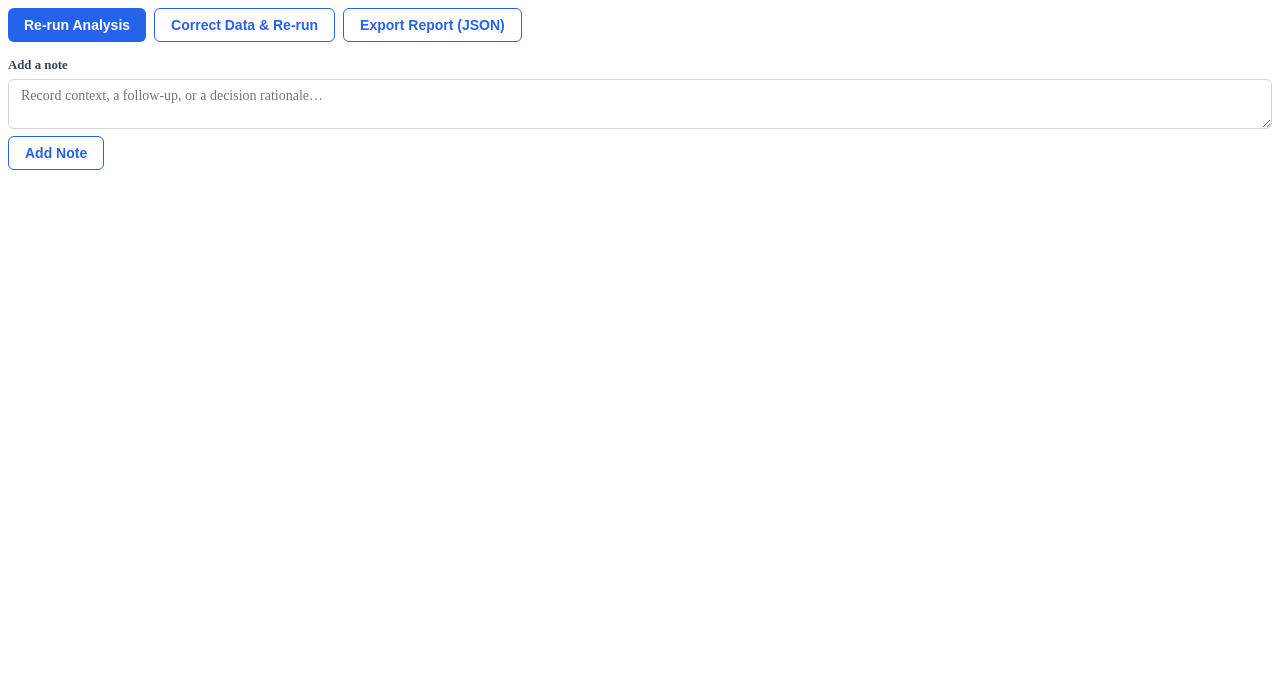
it: OperatorActions › correct-and-re-run sends only changed fields
Step 1. Click the button with test id "toggle-correct-btn" → coordinates (245, 25), box [154,8,335,42]
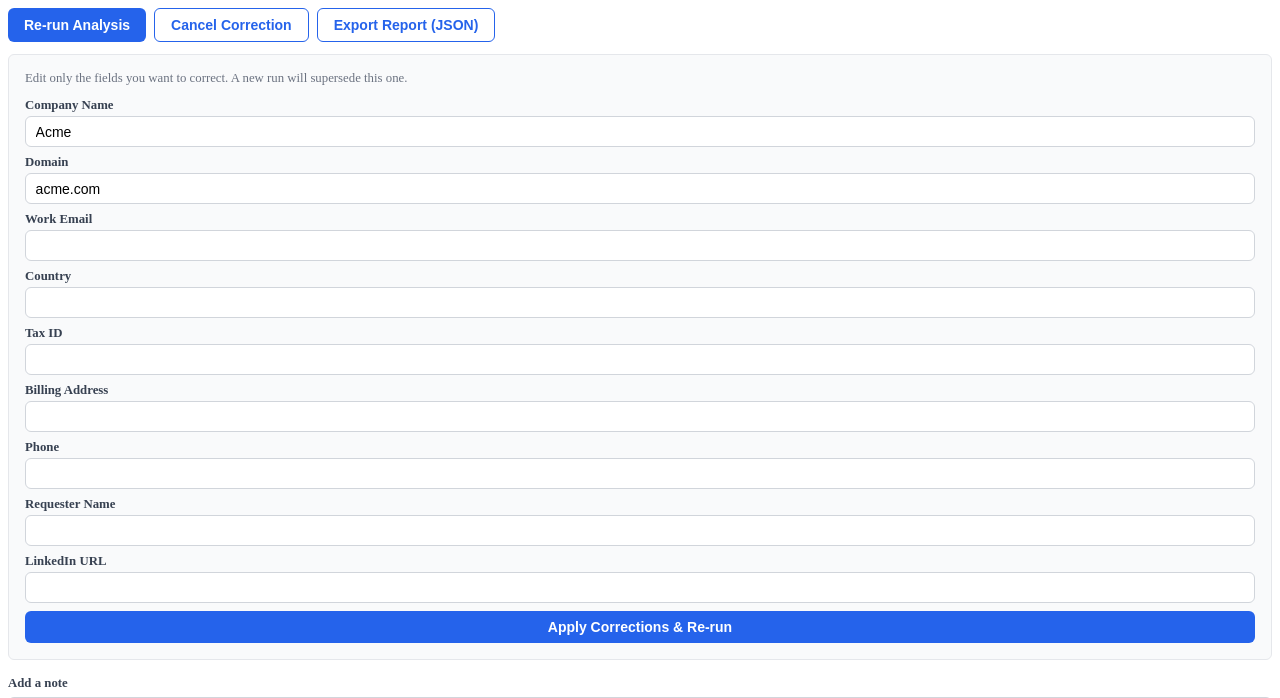
Step 2. Replace the text in the field with test id "correct-input-domain" with "fixed.com" → coordinates (640, 189), box [25,173,1255,204]
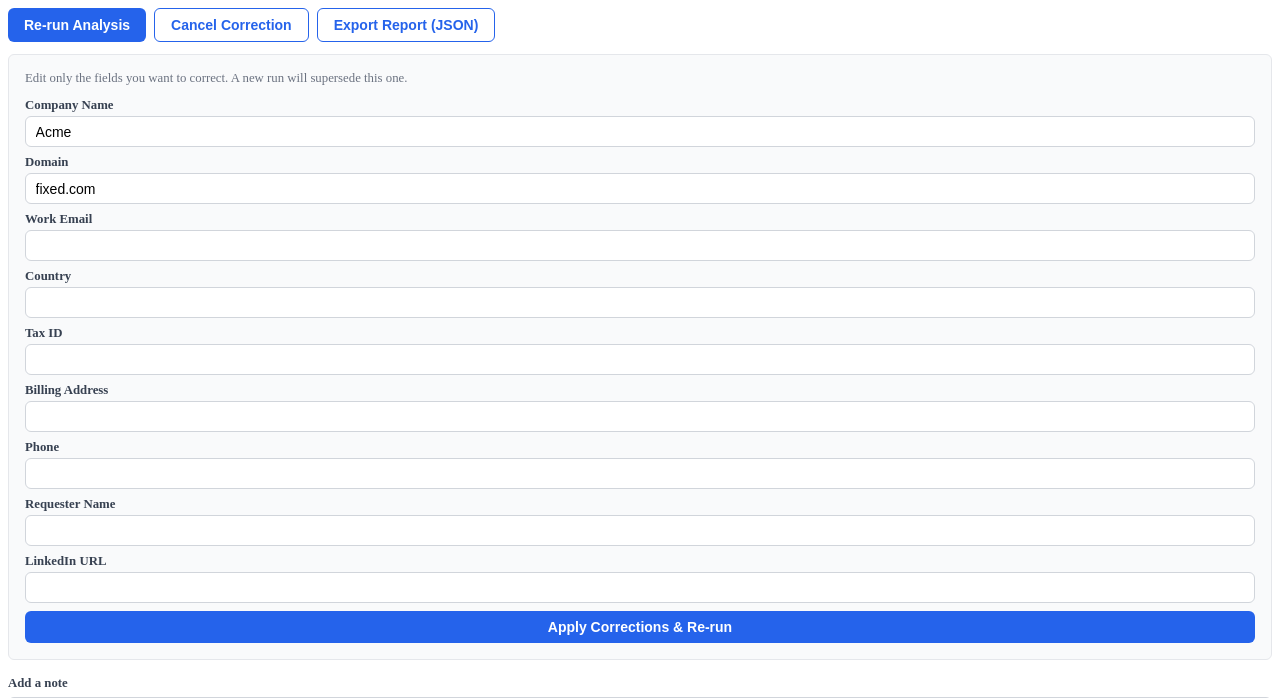
Step 3. Click the button with test id "submit-correct-btn" → coordinates (640, 627), box [25,611,1255,643]
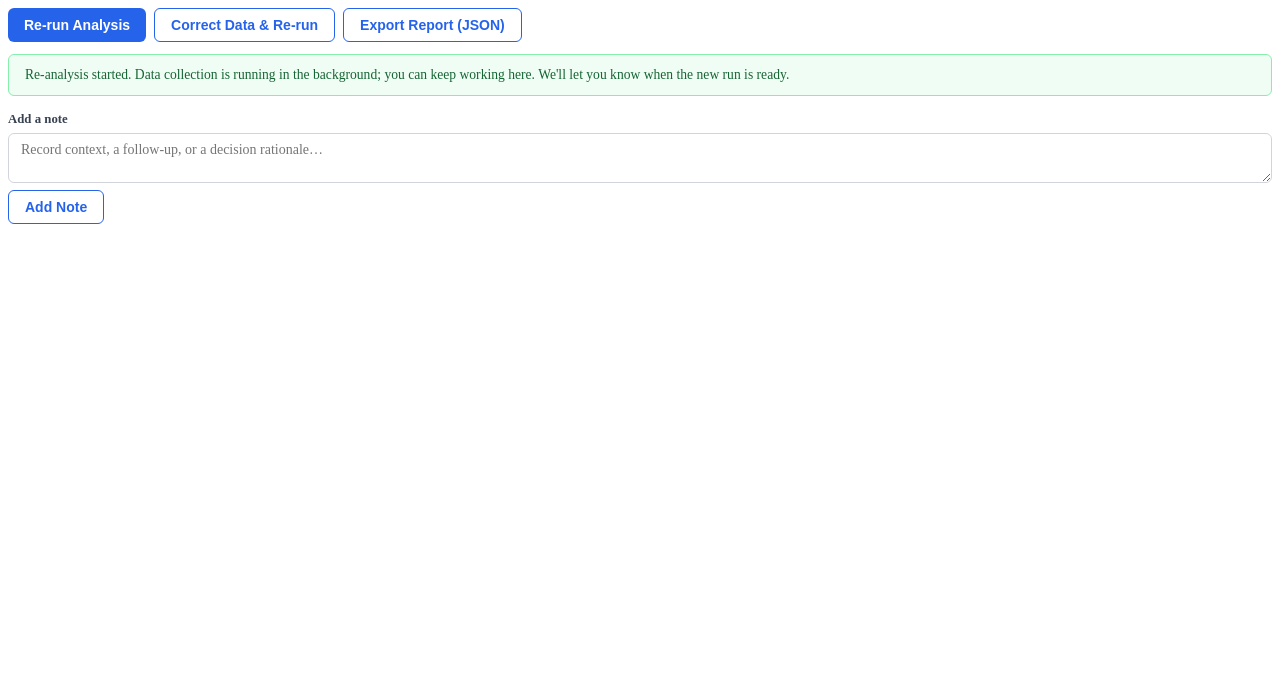
Expected: the text with test id "new-run-banner" is shown, [8,54,1272,96]
